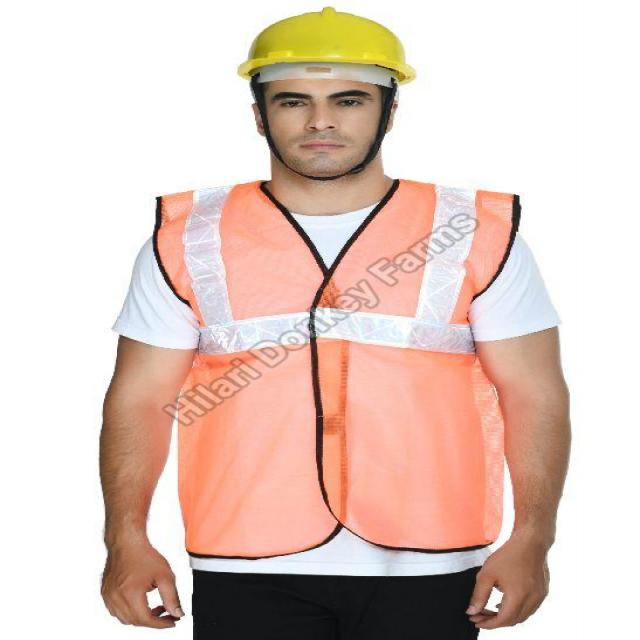Reflective-Jacket: (145, 170, 530, 562)
Safety-Helmet: (233, 5, 420, 86)
